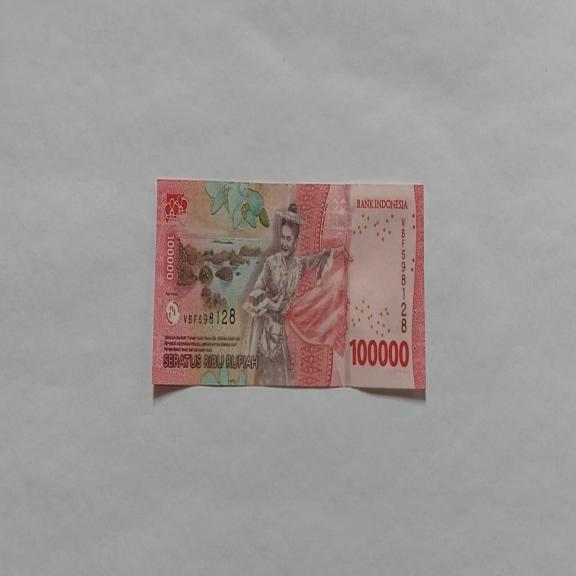Kertas: (151, 178, 426, 394), (349, 336, 410, 369)
